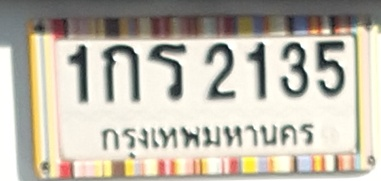num1: (66, 43, 90, 105)
txt01: (100, 43, 142, 104)
txt30: (147, 42, 188, 101)
